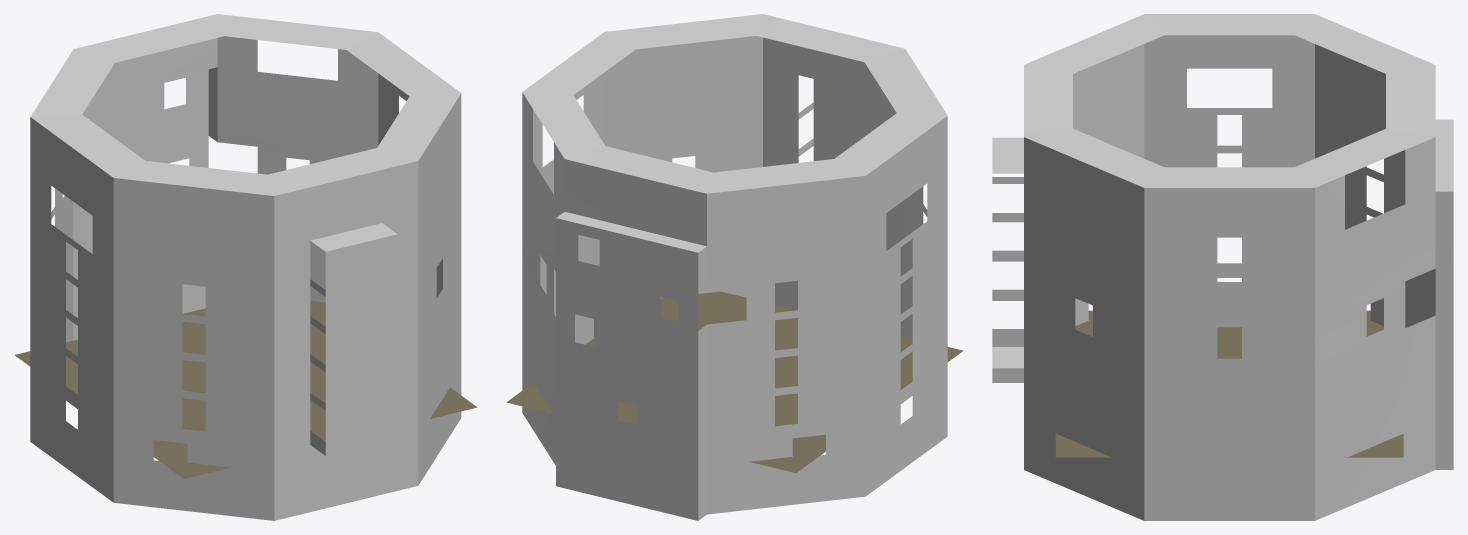
The model's file is SM_H_Building_Tide_DeepJail_13_ATLAS.fbx.
3 renders of one model, left to right at view 1: azimuth 30°, elevation 25°; view 2: azimuth 150°, elevation 25°; view 3: azimuth 270°, elevation 25°, orthographic. The views are drawn at different scales.
Parts seen in each view (by area): view 1: SM_H_Building_Tide_DeepJail_13_ATLAS; view 2: SM_H_Building_Tide_DeepJail_13_ATLAS; view 3: SM_H_Building_Tide_DeepJail_13_ATLAS.
Boxes of the visible parts, x1,y1,x2,y2 form: SM_H_Building_Tide_DeepJail_13_ATLAS: [14, 14, 477, 520]; SM_H_Building_Tide_DeepJail_13_ATLAS: [506, 14, 963, 520]; SM_H_Building_Tide_DeepJail_13_ATLAS: [992, 14, 1453, 520].
Bounding box in the file's own units: 6165 × 6909 × 5502.
